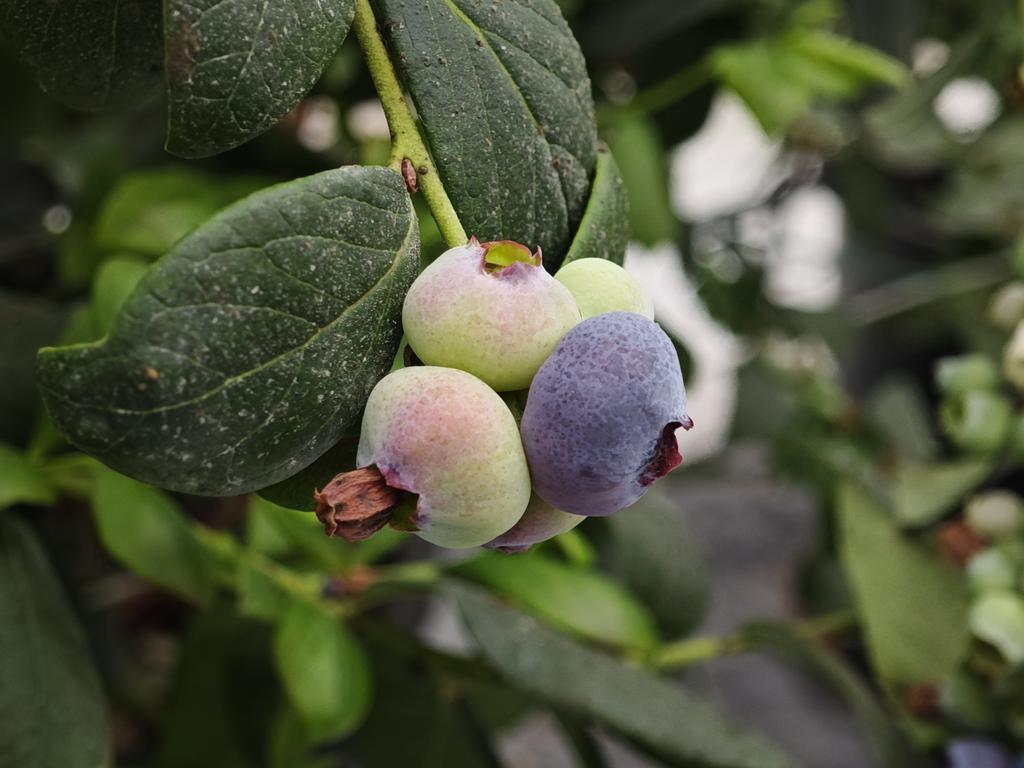RipeBlueBerry: (520, 312, 689, 518)
Semi-RipeBlueBerry: (352, 367, 530, 548), (399, 234, 573, 377)
